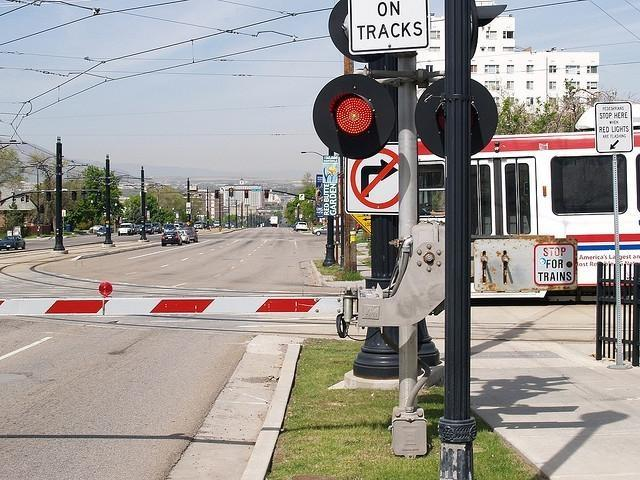car: (160, 231, 182, 248), (0, 236, 26, 250), (118, 222, 134, 236), (182, 228, 198, 241), (138, 222, 154, 234), (176, 230, 190, 243), (312, 225, 326, 236), (152, 222, 162, 234), (163, 223, 176, 232), (294, 222, 308, 230), (194, 221, 204, 229), (97, 228, 105, 236), (174, 223, 182, 230)
